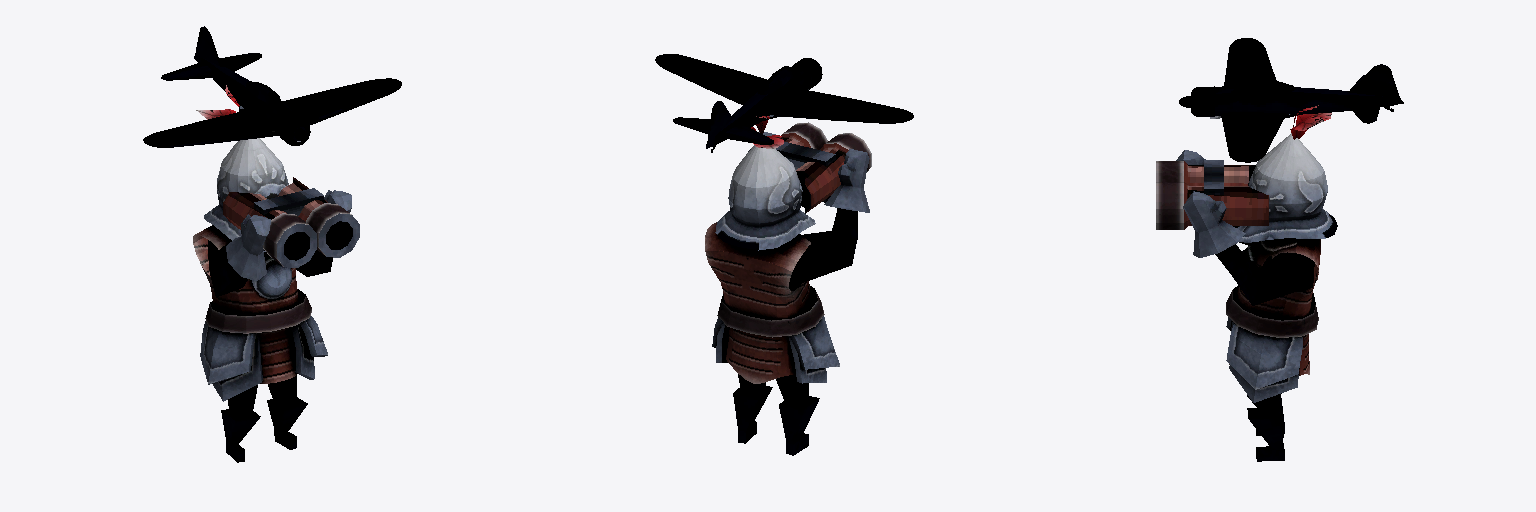
The picture shows the model from 3 angles: view 1: azimuth 30°, elevation 25°; view 2: azimuth 150°, elevation 25°; view 3: azimuth 270°, elevation 25°; orthographic projection.
Parts seen in each view (by area): view 1: captain; view 2: captain; view 3: captain.
Boxes of the visible parts, <box> form: captain: <box>143,26,401,462</box>; captain: <box>655,54,913,455</box>; captain: <box>1156,38,1403,461</box>.
Size of the model in its own units: 4.56 by 6.54 by 3.85.
Materials: 2 (1 with a texture image).